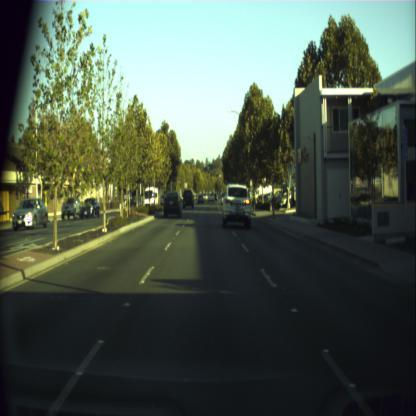Green: (216, 173, 218, 179)
